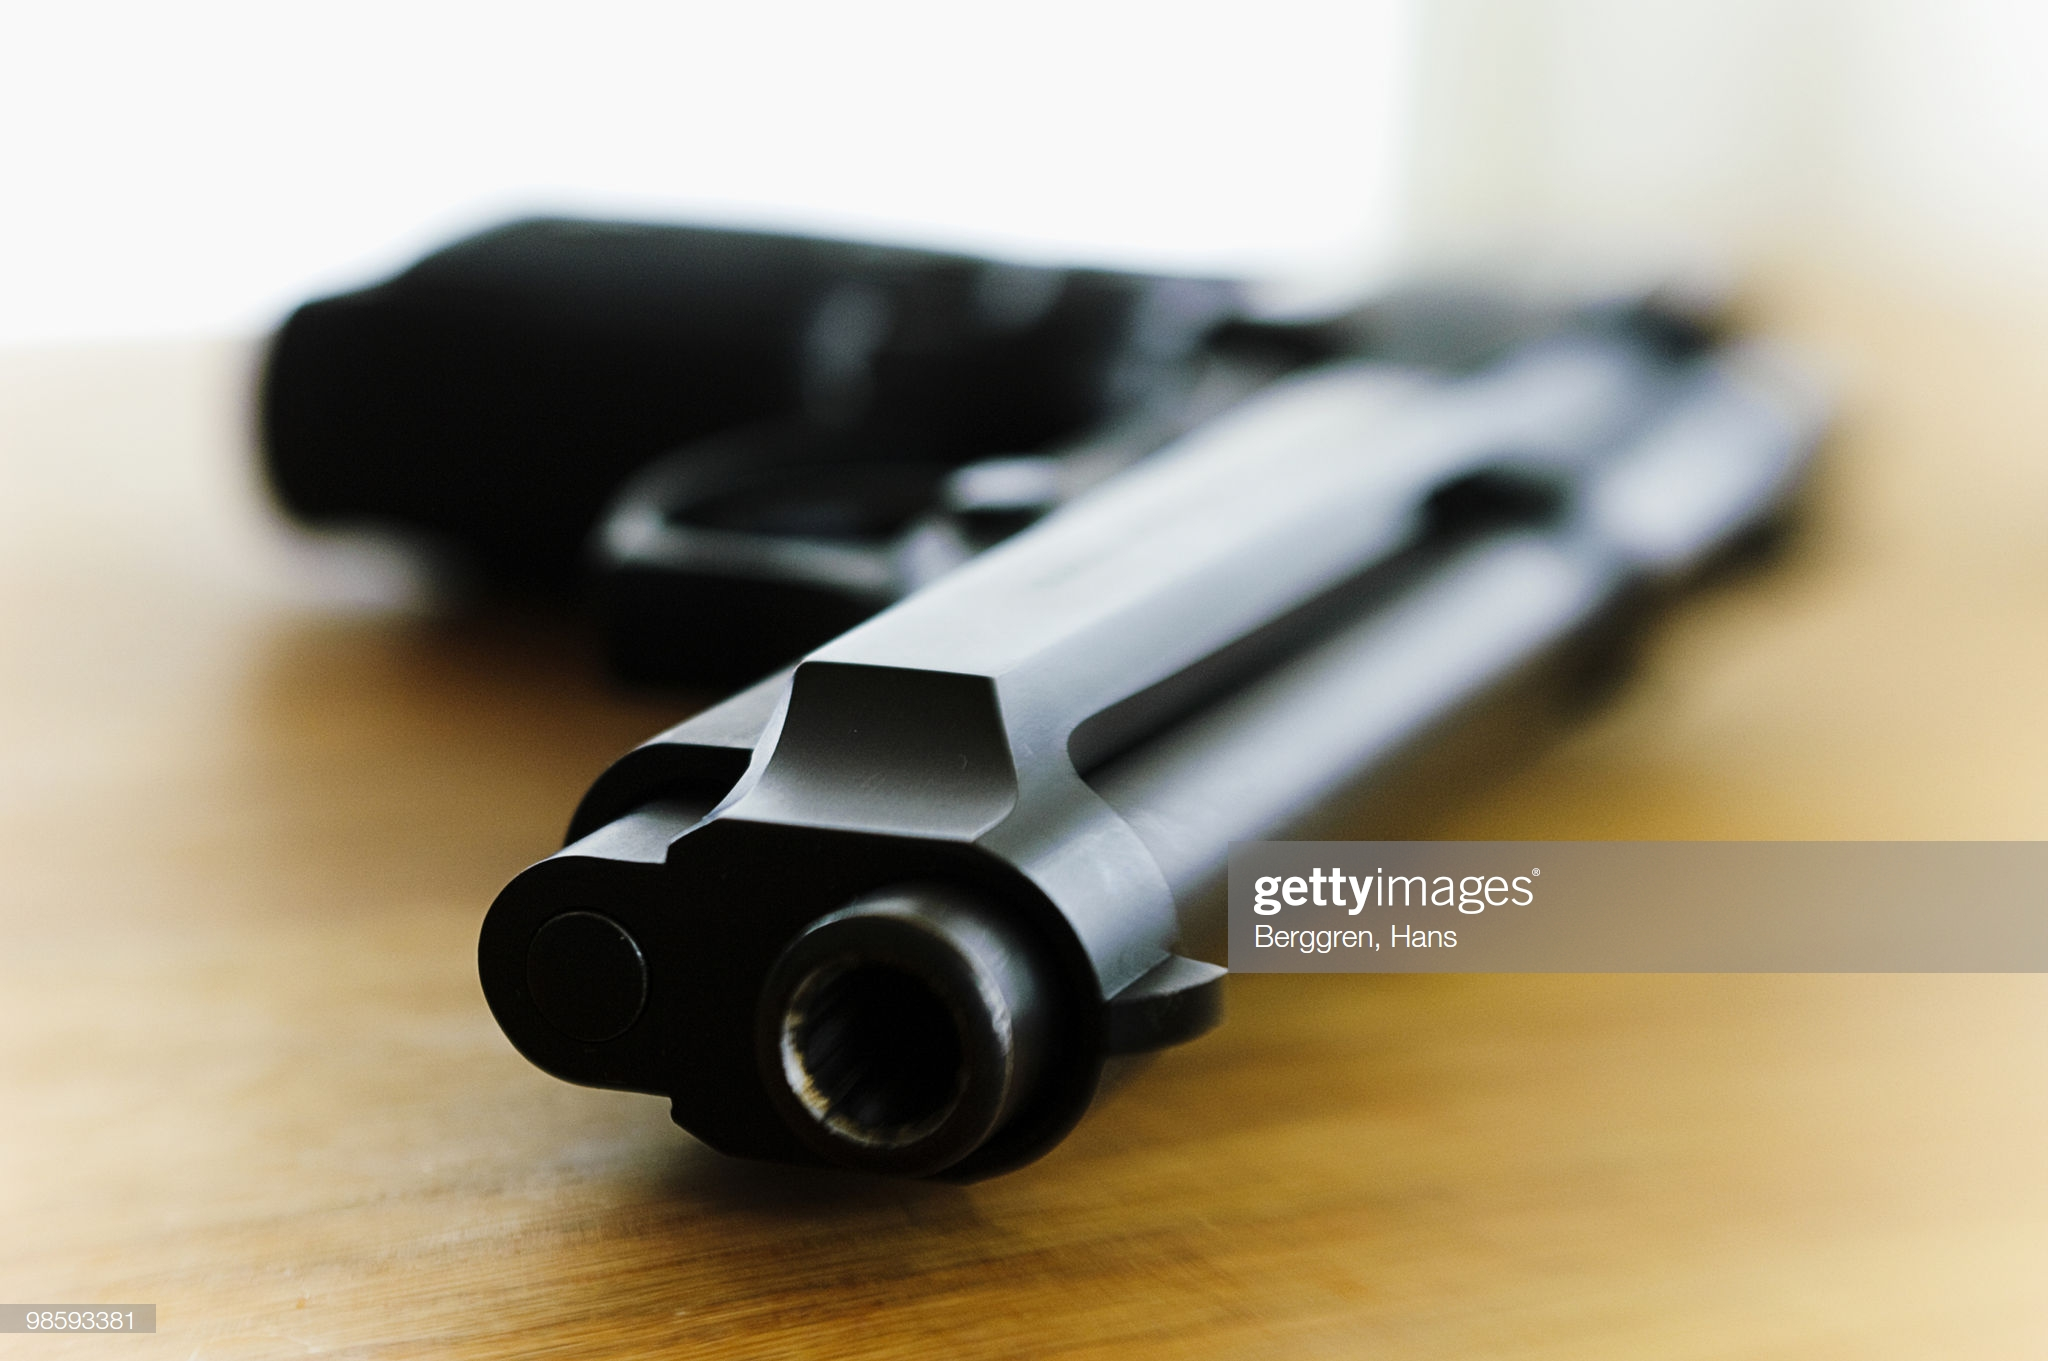pistol: (238, 185, 1838, 1224)
